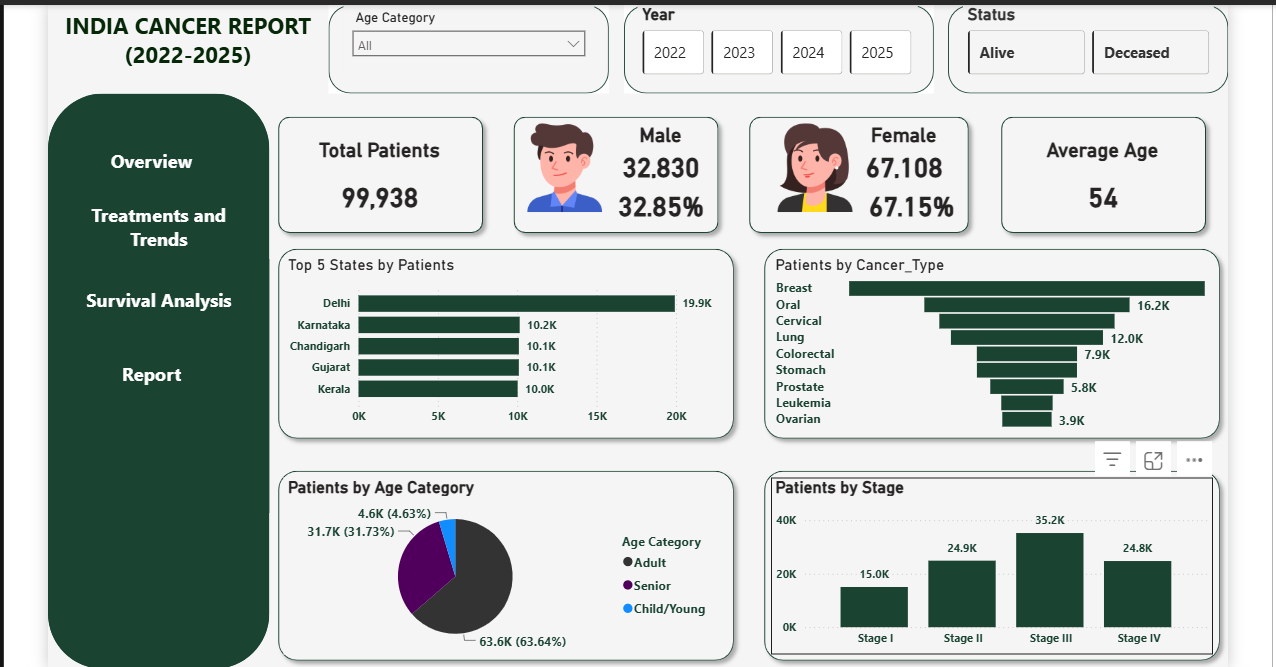

Layout of this report page (visuals, bound fields, positions):
{"tool":"powerbi","page":{"name":"Overview","canvas":[1280,720],"ordinal":0},"visuals":[{"type":"shape","box":[0,96,240,624],"z":0},{"type":"actionButton","box":[16,128,192,80],"z":1000},{"type":"actionButton","box":[16,288,208,64],"z":3000},{"type":"actionButton","box":[16,208,208,64],"z":4000},{"type":"actionButton","box":[32,368,160,64],"z":5000},{"type":"textbox","box":[0,0,304,96],"z":6000},{"type":"shape","box":[304,0,304,96],"z":7000},{"type":"shape","box":[624,0,336,96],"z":8000},{"type":"shape","box":[976,0,304,96],"z":9000},{"type":"slicer","fields":{"Values":["india_cancer_patients_2022_2025 Cleaned.Age Category"]},"box":[320,0,272,80],"z":10000},{"type":"advancedSlicerVisual","fields":{"Values":["india_cancer_patients_2022_2025 Cleaned.Diagnosis_Date.Variation.Date Hierarchy.Year"]},"box":[640,0,304,80],"z":11000},{"type":"advancedSlicerVisual","fields":{"Values":["india_cancer_patients_2022_2025 Cleaned.Status"]},"box":[992,0,272,80],"z":12000},{"type":"shape","box":[240,112,240,144],"z":13000},{"type":"shape","box":[496,112,240,144],"z":14000},{"type":"shape","box":[752,112,256,144],"z":15000},{"type":"shape","box":[1024,112,240,144],"z":16000},{"type":"card","title":"Total Patients","fields":{"Values":["Measures (2).Total Patients"]},"box":[256,144,208,96],"z":17000},{"type":"card","title":"Male","fields":{"Values":["Measures (2).Male"]},"box":[608,128,112,64],"z":18000},{"type":"card","fields":{"Values":["Measures (2).% Male"]},"box":[608,192,112,48],"z":19000},{"type":"image","box":[512,128,96,96],"z":20000},{"type":"card","title":"Female","fields":{"Values":["Measures (2).Female"]},"box":[880,128,96,64],"z":21000},{"type":"card","fields":{"Values":["Measures (2).% Female"]},"box":[880,192,112,48],"z":22000},{"type":"image","box":[768,128,128,96],"z":23000},{"type":"card","title":"Average Age","fields":{"Values":["Measures (2).Average Age"]},"box":[1040,144,208,96],"z":24000},{"type":"shape","box":[240,256,512,224],"z":25000},{"type":"shape","box":[240,496,512,224],"z":26000},{"type":"shape","box":[768,496,512,224],"z":27000},{"type":"shape","box":[768,256,512,224],"z":28000},{"type":"clusteredBarChart","title":"Top 5 States by Patients","fields":{"Y":["Measures (2).Total Patients"],"Category":["india_cancer_patients_2022_2025 Cleaned.State"]},"box":[256,272,480,192],"z":29000},{"type":"funnel","title":"Patients by Cancer_Type","fields":{"Category":["india_cancer_patients_2022_2025 Cleaned.Cancer_Type"],"Y":["Measures (2).Total Patients"]},"box":[784,272,480,192],"z":30000},{"type":"pieChart","title":"Patients by Age Category","fields":{"Y":["Measures (2).Total Patients"],"Category":["india_cancer_patients_2022_2025 Cleaned.Age Category"]},"box":[256,512,480,192],"z":31000},{"type":"clusteredColumnChart","title":" Patients by Stage","fields":{"Category":["india_cancer_patients_2022_2025 Cleaned.Stage"],"Y":["Measures (2).Total Patients"]},"box":[784,512,480,192],"z":32000}]}

Visuals, with their boxes on the page's 1280x720 design canvas (x1, y1, x2, y2). These are canvas units, not pixel positions in the 1276x667 screenshot, which may show the page scaled, cropped or inside an application window:
shape: Rect(0, 96, 240, 720)
actionButton: Rect(16, 128, 208, 208)
actionButton: Rect(16, 288, 224, 352)
actionButton: Rect(16, 208, 224, 272)
actionButton: Rect(32, 368, 192, 432)
textbox: Rect(0, 0, 304, 96)
shape: Rect(304, 0, 608, 96)
shape: Rect(624, 0, 960, 96)
shape: Rect(976, 0, 1280, 96)
slicer - india_cancer_patients_2022_2025 Cleaned.Age Category: Rect(320, 0, 592, 80)
advancedSlicerVisual - india_cancer_patients_2022_2025 Cleaned.Diagnosis_Date.Variation.Date Hierarchy.Year: Rect(640, 0, 944, 80)
advancedSlicerVisual - india_cancer_patients_2022_2025 Cleaned.Status: Rect(992, 0, 1264, 80)
shape: Rect(240, 112, 480, 256)
shape: Rect(496, 112, 736, 256)
shape: Rect(752, 112, 1008, 256)
shape: Rect(1024, 112, 1264, 256)
"Total Patients" card: Rect(256, 144, 464, 240)
"Male" card: Rect(608, 128, 720, 192)
card - Measures (2).% Male: Rect(608, 192, 720, 240)
image: Rect(512, 128, 608, 224)
"Female" card: Rect(880, 128, 976, 192)
card - Measures (2).% Female: Rect(880, 192, 992, 240)
image: Rect(768, 128, 896, 224)
"Average Age" card: Rect(1040, 144, 1248, 240)
shape: Rect(240, 256, 752, 480)
shape: Rect(240, 496, 752, 720)
shape: Rect(768, 496, 1280, 720)
shape: Rect(768, 256, 1280, 480)
"Top 5 States by Patients" clusteredBarChart: Rect(256, 272, 736, 464)
"Patients by Cancer_Type" funnel: Rect(784, 272, 1264, 464)
"Patients by Age Category" pieChart: Rect(256, 512, 736, 704)
" Patients by Stage" clusteredColumnChart: Rect(784, 512, 1264, 704)
